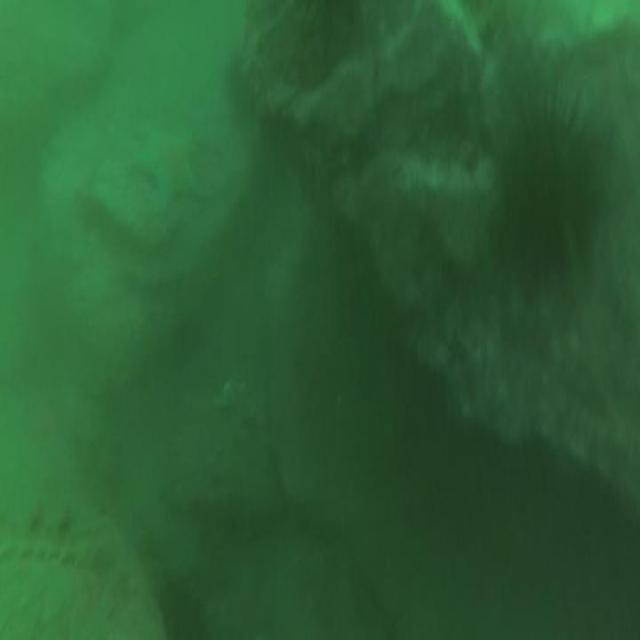echinus: (508, 116, 598, 282)
starfish: (133, 126, 201, 214)
